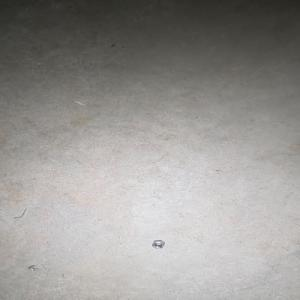Nut: (150, 240, 165, 248)
